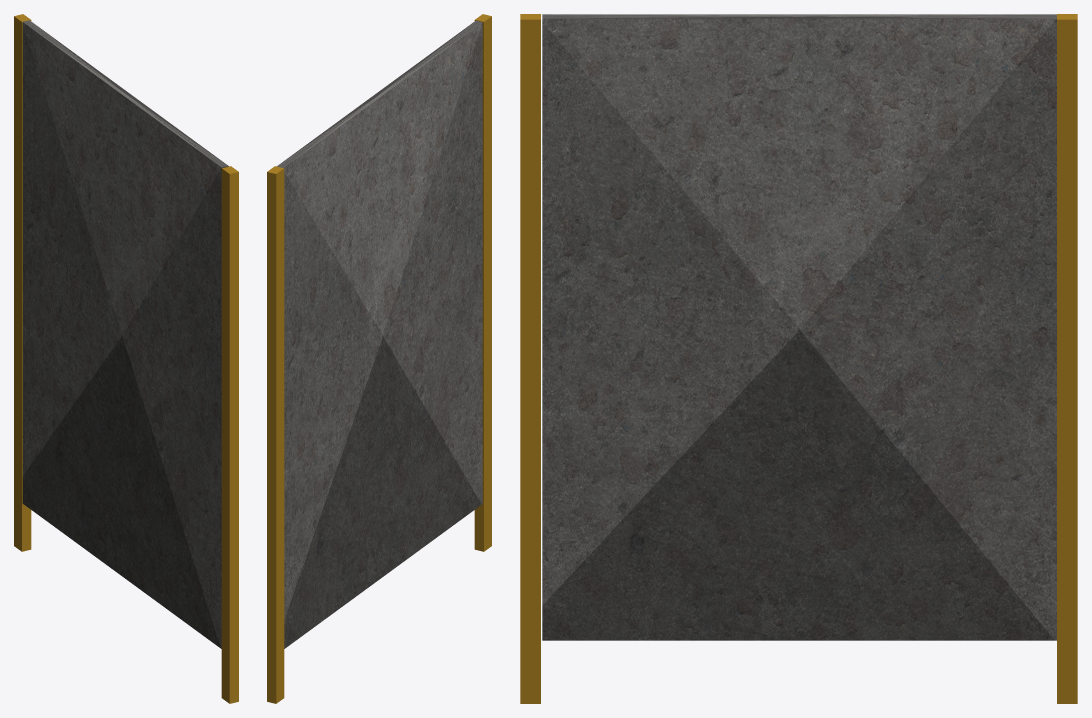
Rendered from screen_static.FBX.
3 views of the same model, side by side, from view 1: azimuth 30°, elevation 25°; view 2: azimuth 150°, elevation 25°; view 3: azimuth 270°, elevation 25° (orthographic). The views are drawn at different scales.
Parts seen in each view (by area): view 1: screen_static; view 2: screen_static; view 3: screen_static.
Boxes of the visible parts, x1,y1,x2,y2 form: screen_static: [14, 14, 238, 703]; screen_static: [267, 14, 491, 703]; screen_static: [520, 14, 1077, 703].
Size of the model in its own units: 0.04 by 2.2 by 1.62.
Materials: 2 (2 with a texture image).
